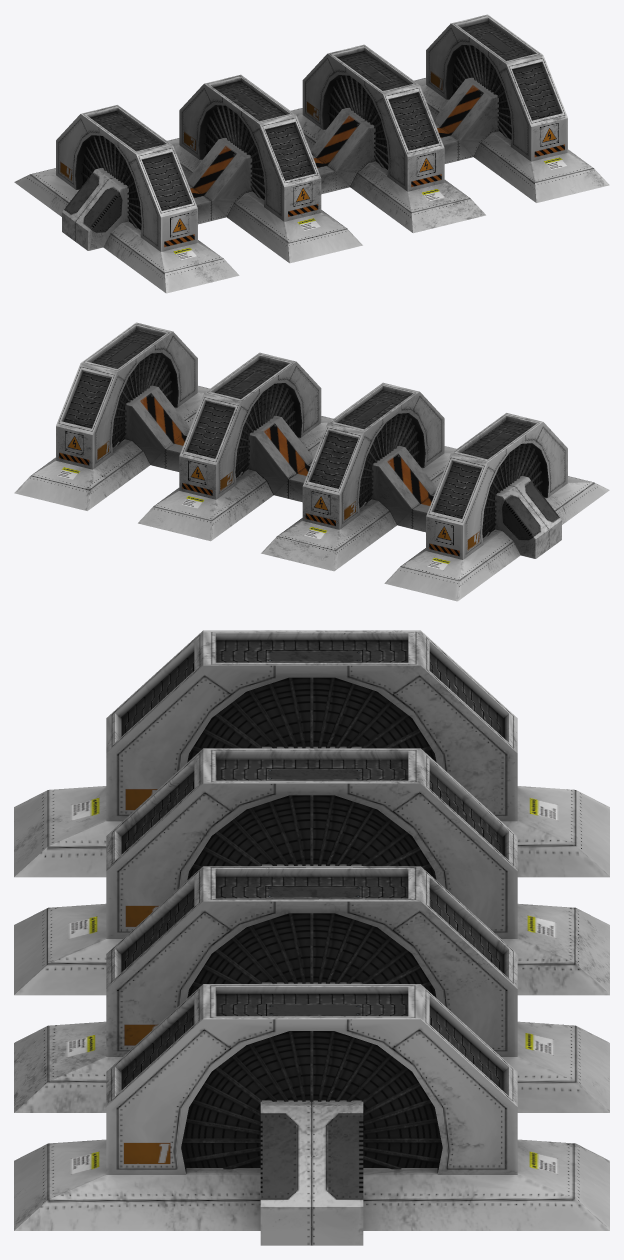
File: power_turbine.dae
3 views of the same model, one above another, from view 1: azimuth 30°, elevation 25°; view 2: azimuth 150°, elevation 25°; view 3: azimuth 270°, elevation 25° (orthographic). The views are drawn at different scales.
Parts seen in each view (by area): view 1: power_turbine; view 2: power_turbine; view 3: power_turbine.
Boxes of the visible parts, box(x1,y1,x2,y2) form: power_turbine: box(14, 14, 609, 293); power_turbine: box(14, 322, 609, 601); power_turbine: box(14, 630, 609, 1245).
Size of the model in its own units: 55.41 by 30.84 by 11.1.
